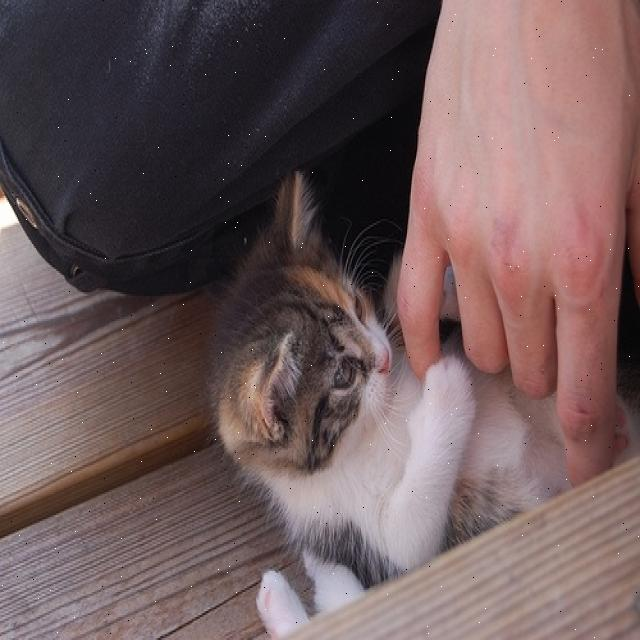cat: (211, 173, 568, 611)
